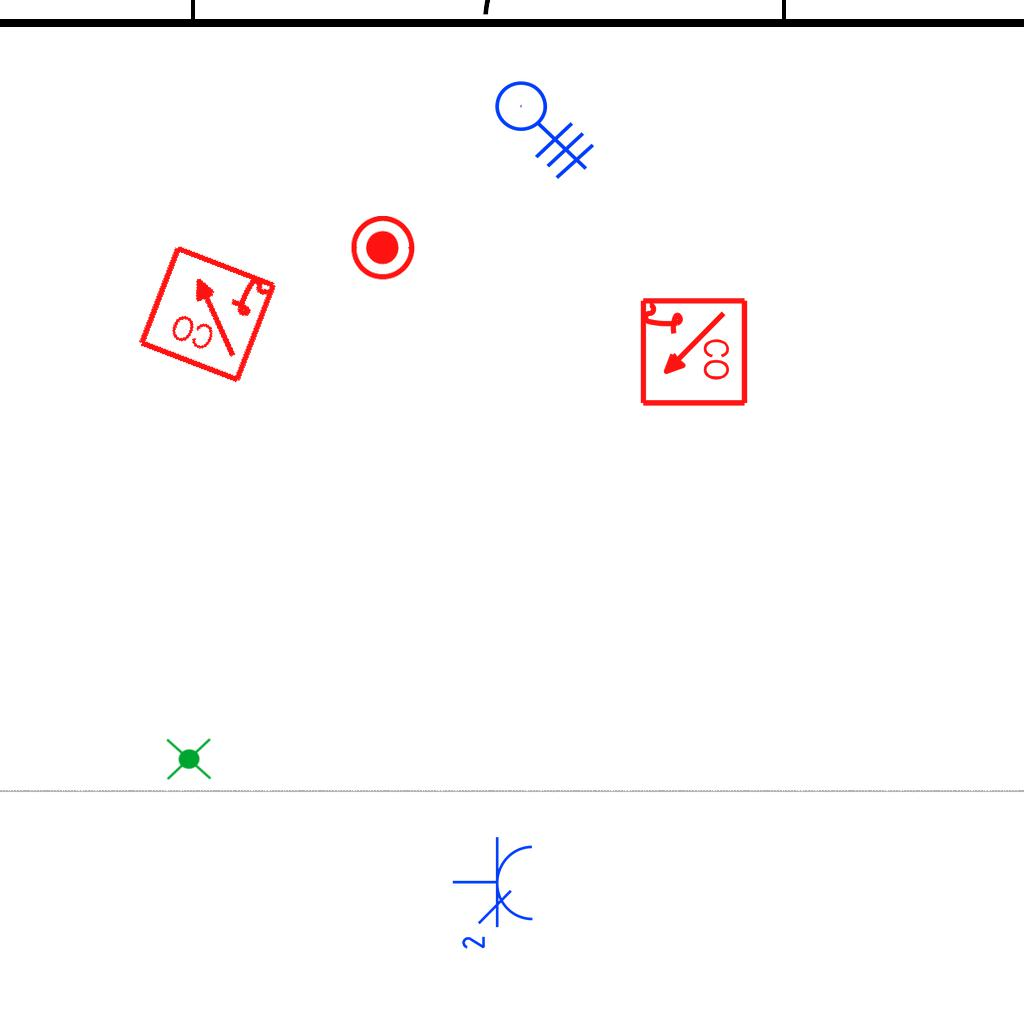Elektroanschluss_allgemein_400V_Geraeteanschlussdose_400V: (494, 64, 607, 180)
Notlichtbaustein_in_Allgemeinbeleuchtug_engebaut_Einbau_(1UG_und_2UG_Aufbauvaria: (164, 733, 214, 784)
ROA_Rauchmelder_optisch_mit_Signalgeber_(Sockelsirene): (134, 239, 281, 386), (636, 296, 749, 409)
Schukosteckdose_mehrfach: (451, 835, 539, 956)
Taster: (349, 216, 415, 282)
